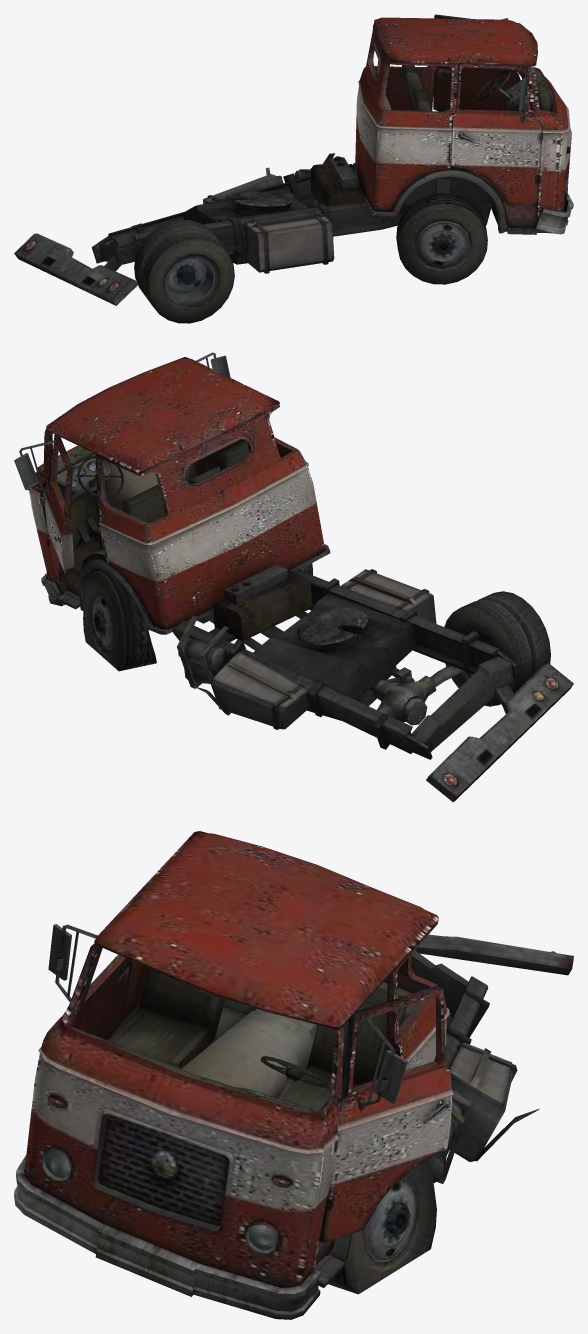
The model's file is truck002a_cab.glb.
3 views of the same model, one above another, from view 1: azimuth 30°, elevation 25°; view 2: azimuth 150°, elevation 25°; view 3: azimuth 270°, elevation 25° (orthographic). The views are drawn at different scales.
Visible parts, largest first — view 1: 0_truck002a_01; view 2: 0_truck002a_01; view 3: 0_truck002a_01.
Boxes of the visible parts, bbox=[...] form: 0_truck002a_01: bbox=[14, 14, 573, 323]; 0_truck002a_01: bbox=[14, 352, 573, 802]; 0_truck002a_01: bbox=[14, 831, 573, 1319].
Bounding box in the file's own units: 7.01 × 3.13 × 4.31.
Materials: 1 (1 with a texture image).
